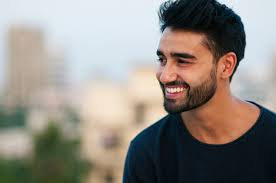middle_eastern_male: (152, 1, 235, 118)
